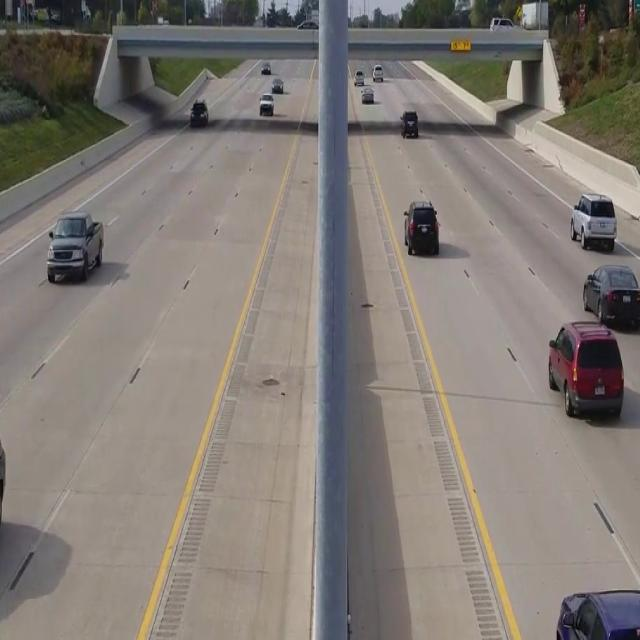car: (547, 319, 624, 419), (46, 210, 103, 284), (582, 264, 640, 330), (570, 194, 616, 251), (403, 200, 440, 255), (190, 99, 208, 128), (400, 109, 418, 138), (258, 93, 274, 115)
